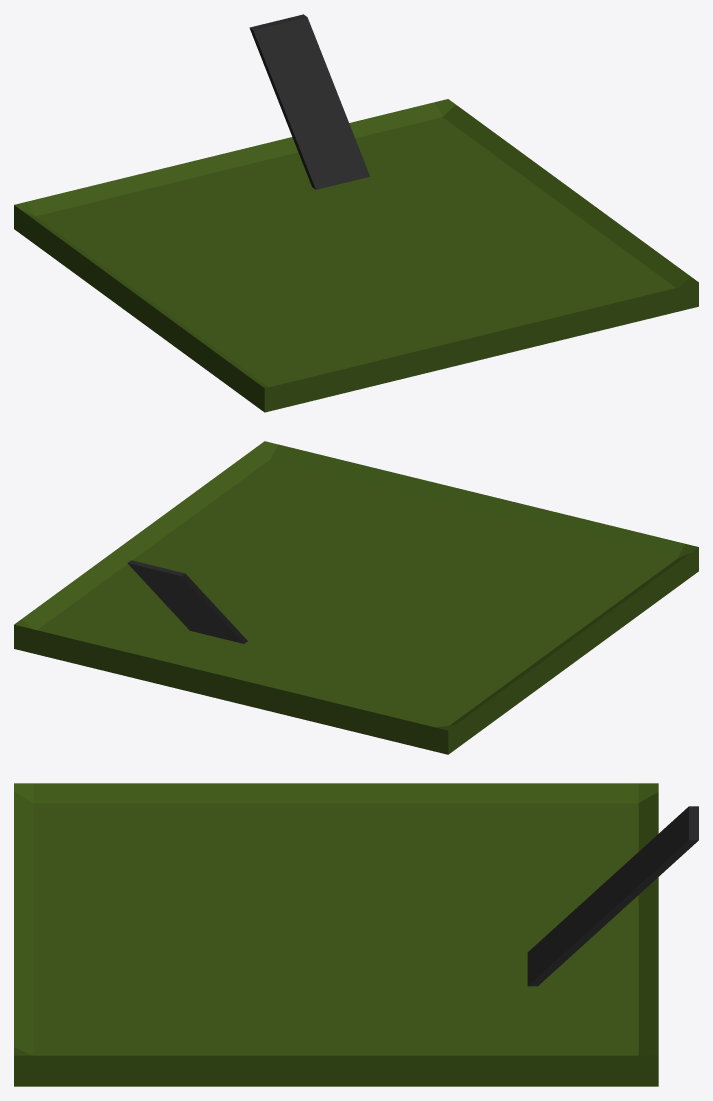
The model's file is level1.fbx.
3 views of the same model, one above another, from view 1: azimuth 30°, elevation 25°; view 2: azimuth 150°, elevation 25°; view 3: azimuth 270°, elevation 25° (orthographic). The views are drawn at different scales.
Visible parts, largest first — view 1: Cube; view 2: Cube; view 3: Cube.
Boxes of the visible parts, box(x1,y1,x2,y2) form: Cube: box(14, 14, 698, 412); Cube: box(14, 441, 698, 754); Cube: box(14, 783, 698, 1086).
Size of the model in its own units: 6000 by 1700 by 6375.
